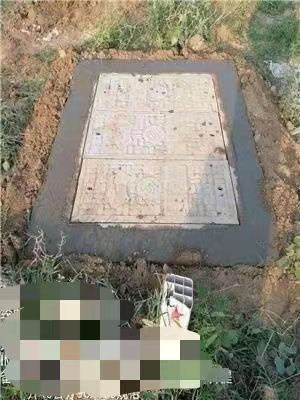wellcover: (69, 52, 249, 242)
